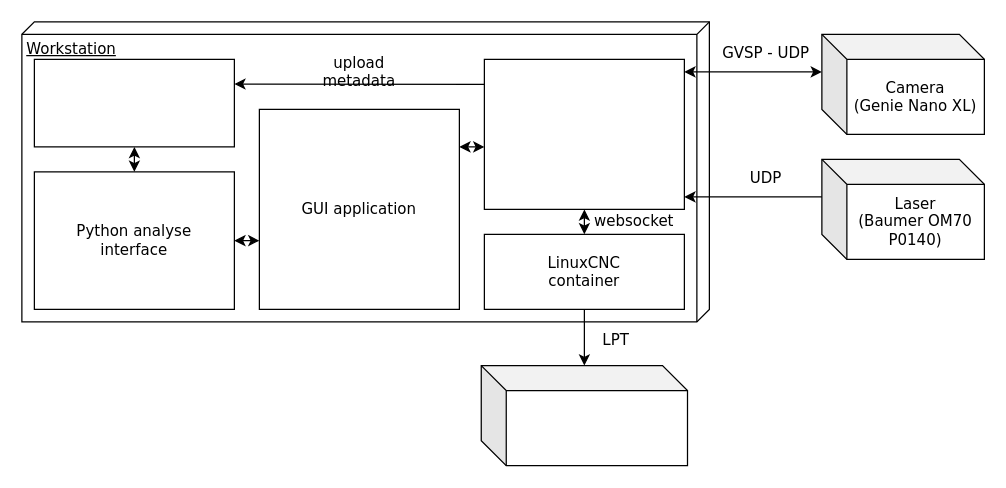
This 1006x488 diagram has some shape labels left out. Each missing label, with the centre of its shape:
"Document image store" belongs at (x=133, y=102).
"Python acquisition interface" belongs at (x=583, y=133).
"Stepper Controller (CNC-STEP Zero3)" belongs at (x=584, y=415).
